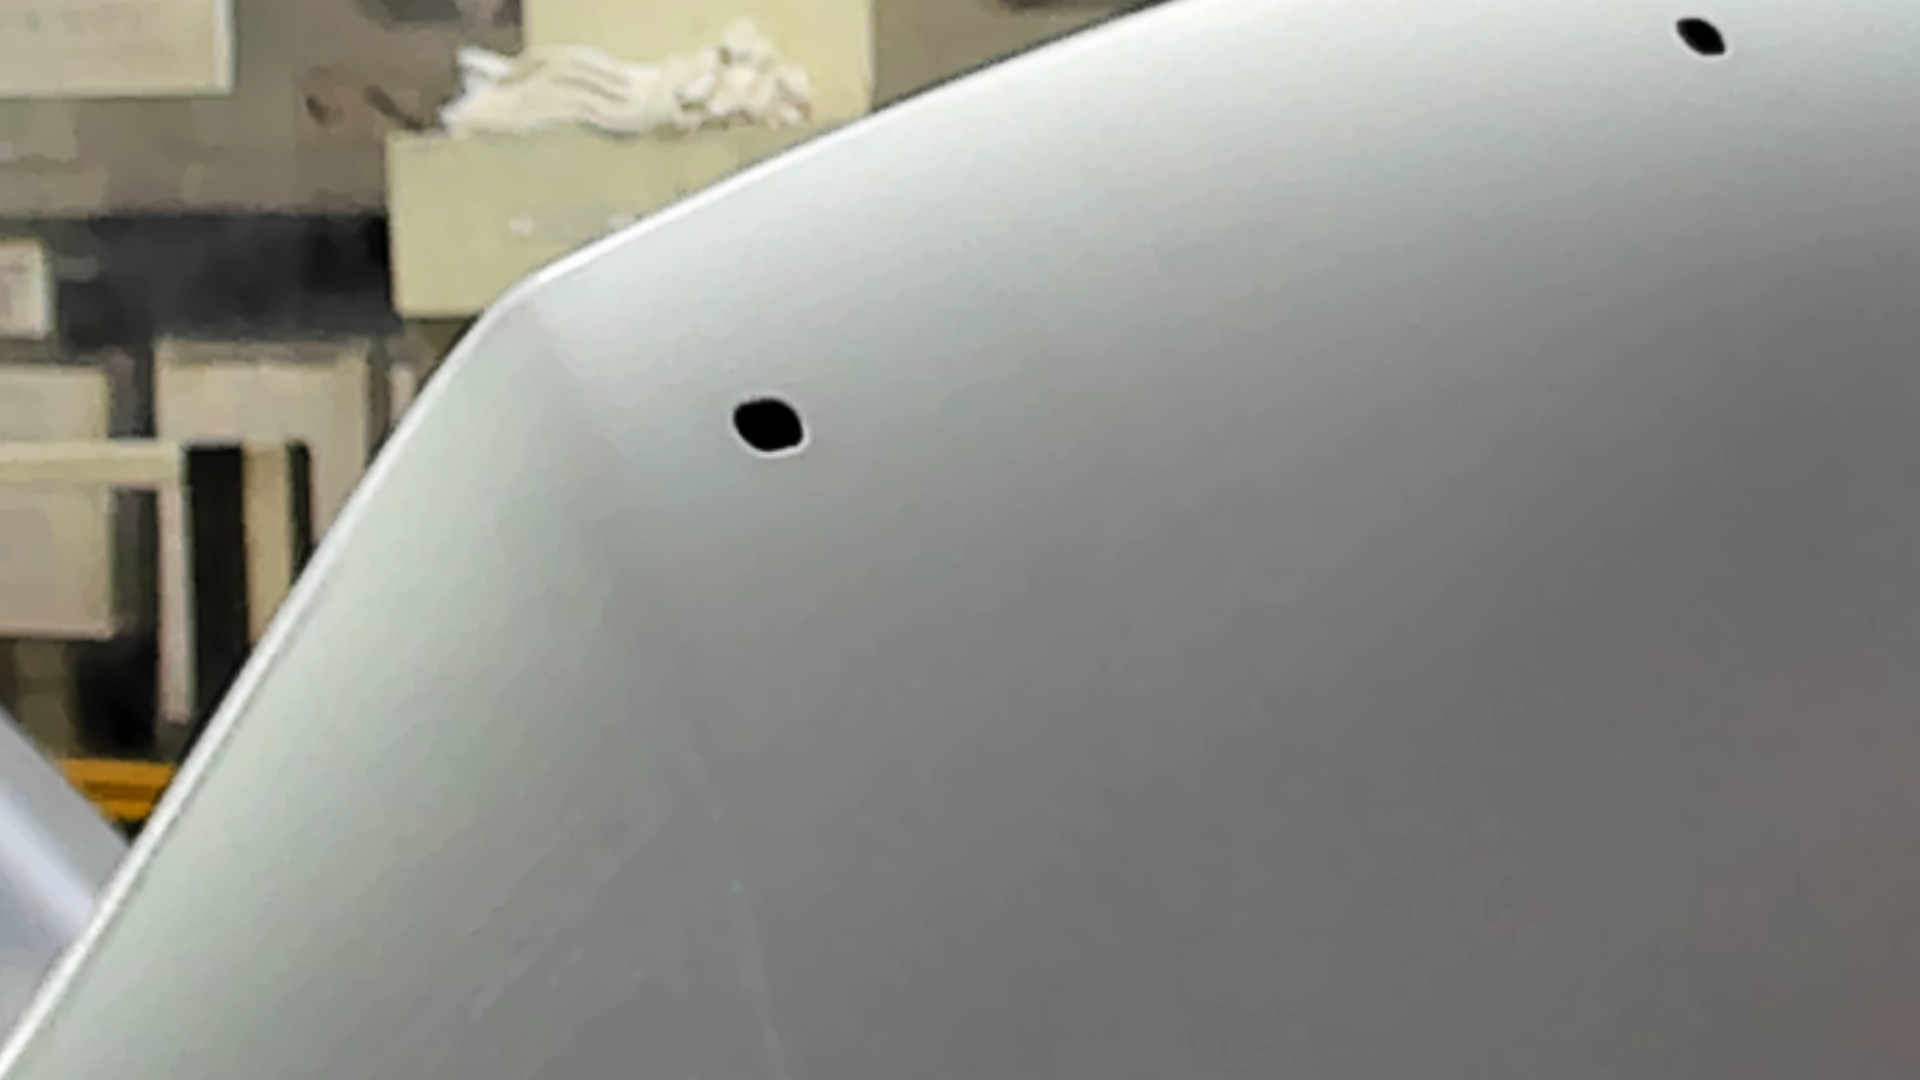amorfo: (727, 394, 811, 459), (1668, 15, 1734, 61)
